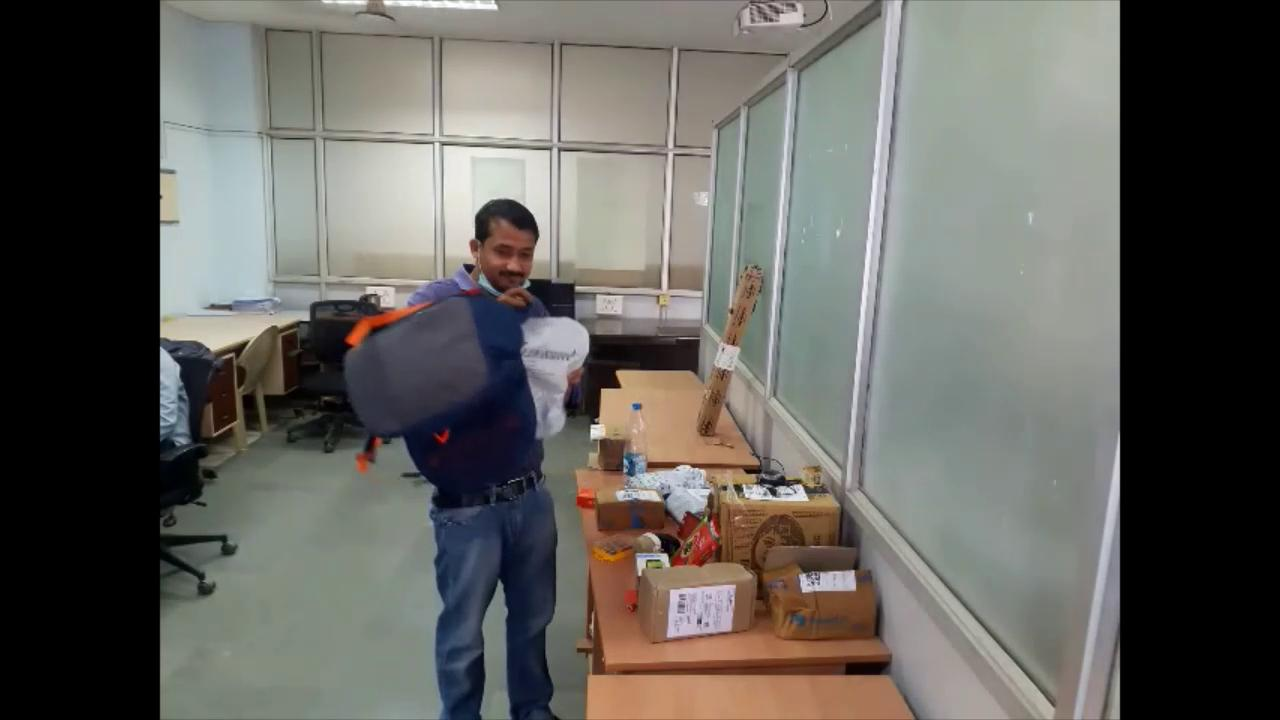shoplifting: (335, 197, 601, 720)
